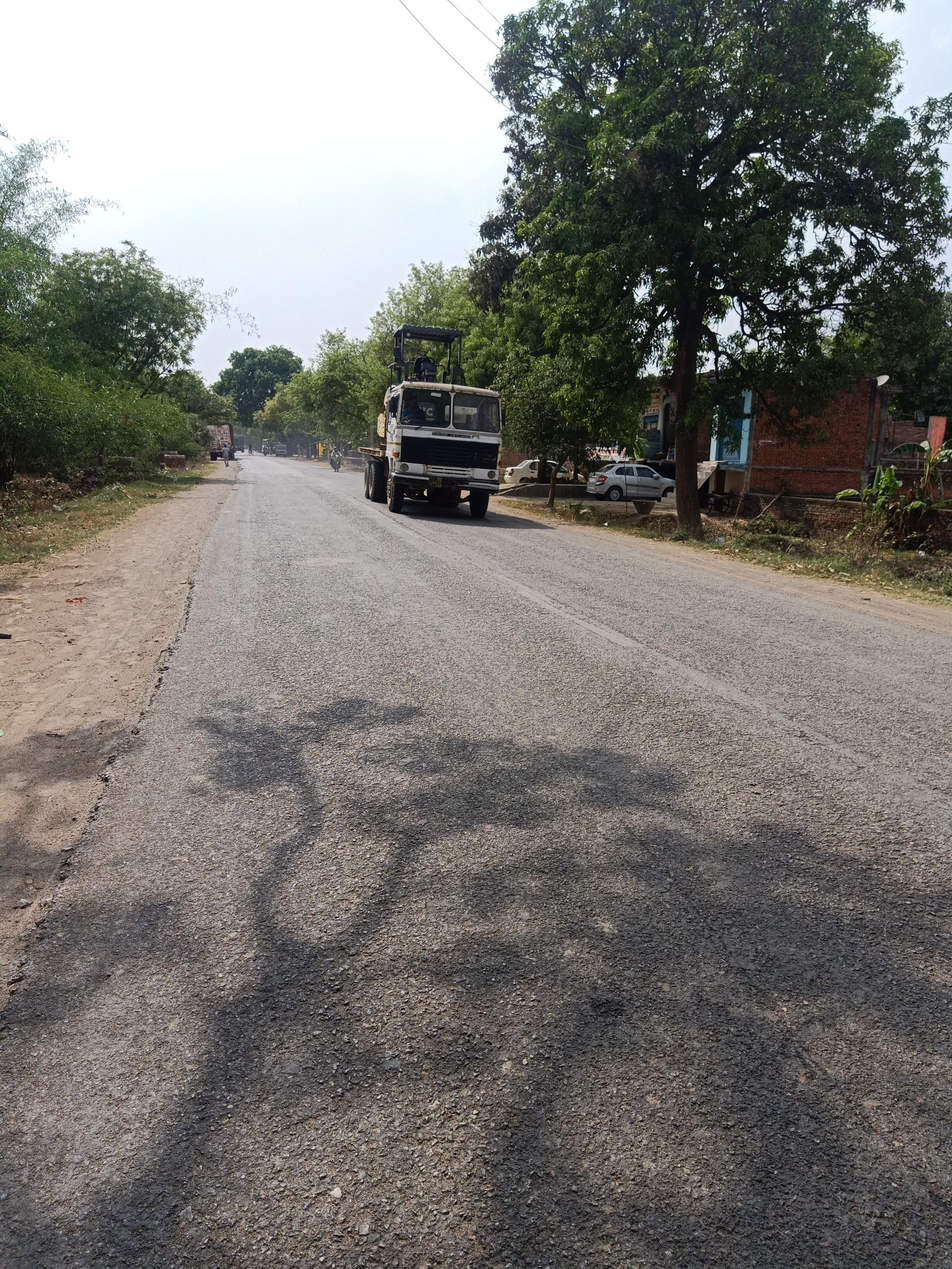non-ambulance: (305, 318, 613, 658)
